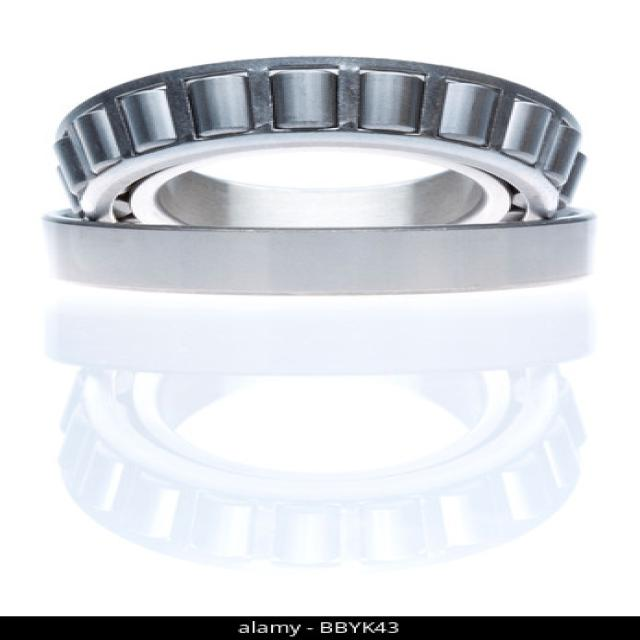Bearing: (32, 54, 596, 298)
